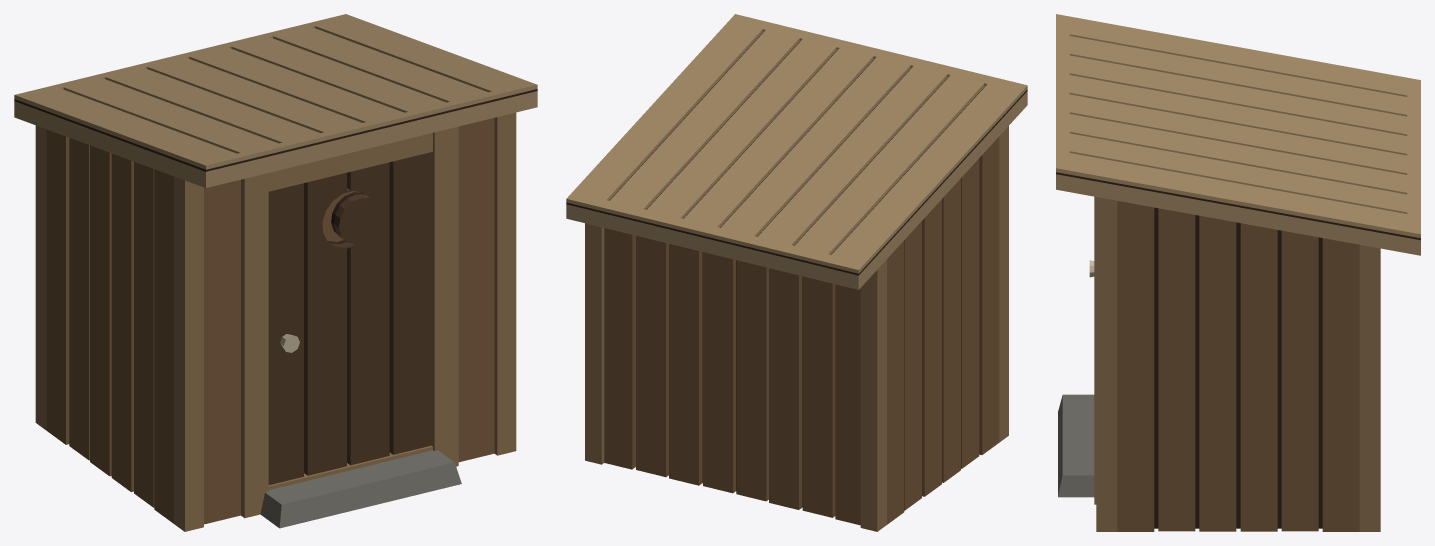
Rendered from forest-outhouse-e968d1.glb.
3 views of the same model, side by side, from view 1: azimuth 30°, elevation 25°; view 2: azimuth 150°, elevation 25°; view 3: azimuth 270°, elevation 25° (orthographic). The views are drawn at different scales.
Visible parts, largest first — view 1: outhouse-shell, door-leaf, step-slab; view 2: outhouse-shell; view 3: outhouse-shell, step-slab.
Part boxes in pixels (x1=…): outhouse-shell: x1=14, y1=14, x2=537, y2=531; door-leaf: x1=268, y1=152, x2=431, y2=485; step-slab: x1=260, y1=450, x2=461, y2=528; outhouse-shell: x1=566, y1=14, x2=1027, y2=531; outhouse-shell: x1=1056, y1=14, x2=1420, y2=531; step-slab: x1=1058, y1=394, x2=1094, y2=497.
Bounding box in the file's own units: 2 × 2.2 × 2.
